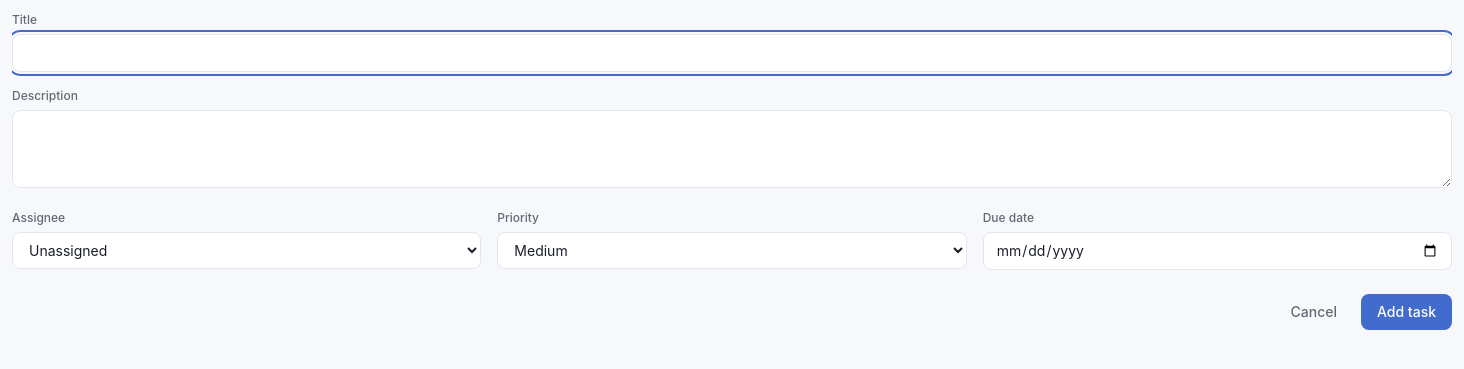
Test: TaskForm › shows the server's validation error beside the field
Click the button "Add task". click: (1406,312)
box: [1361, 294, 1452, 330]
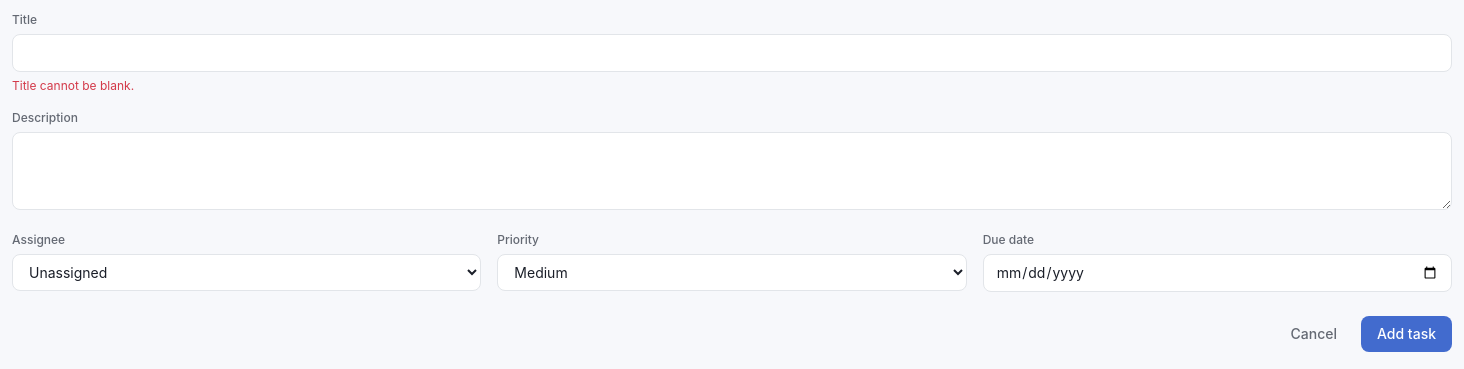
Expected: the text "Title cannot be blank." is shown, [12, 78, 134, 93]
